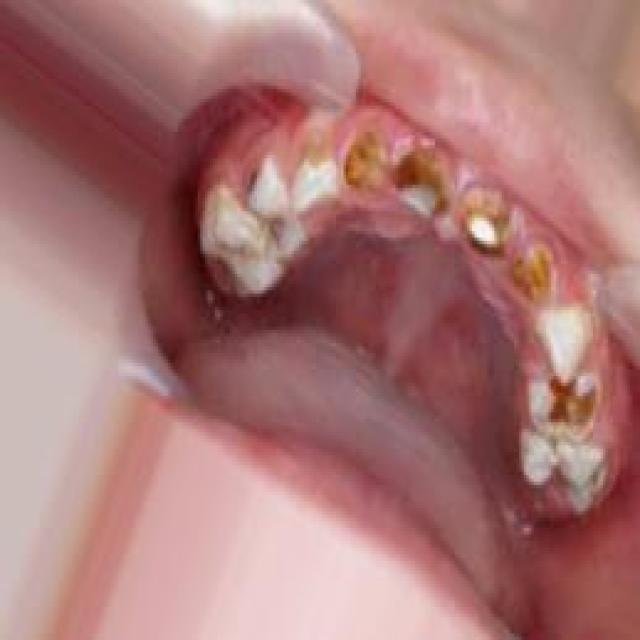caries: (520, 372, 606, 444), (387, 137, 451, 225), (451, 173, 513, 260), (503, 233, 566, 316), (336, 123, 398, 205), (294, 127, 342, 195), (235, 148, 281, 212)
